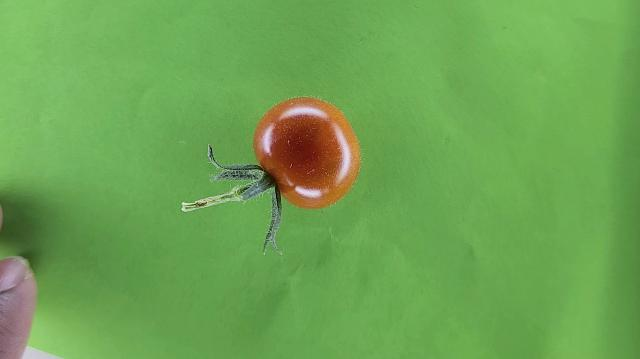Fully Grown: (251, 96, 363, 211)
